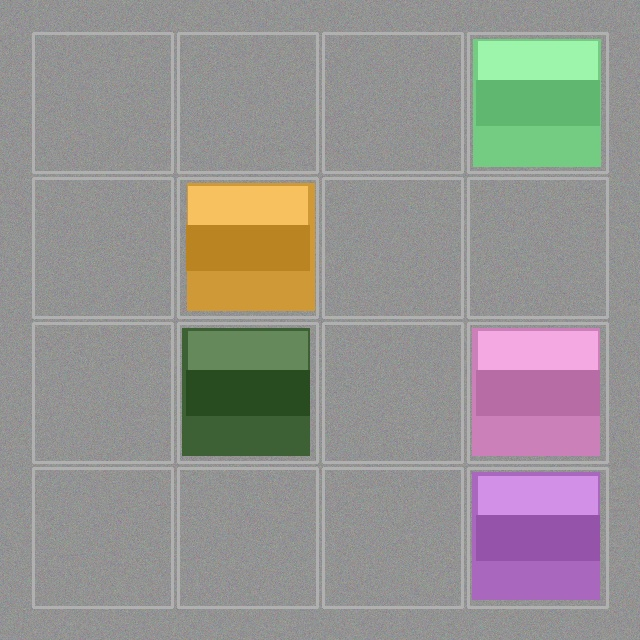space-empty: (35, 35, 170, 170), (180, 35, 315, 170), (325, 35, 460, 170), (35, 180, 170, 315), (325, 180, 460, 315), (470, 180, 605, 315), (35, 325, 170, 460), (325, 325, 460, 460), (35, 470, 170, 605), (180, 470, 315, 605), (325, 470, 460, 605)
space-occupied: (470, 35, 605, 170), (180, 180, 315, 315), (180, 325, 315, 460), (470, 325, 605, 460), (470, 470, 605, 605)
